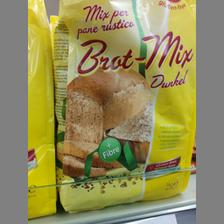Mehl: (50, 0, 193, 212)
